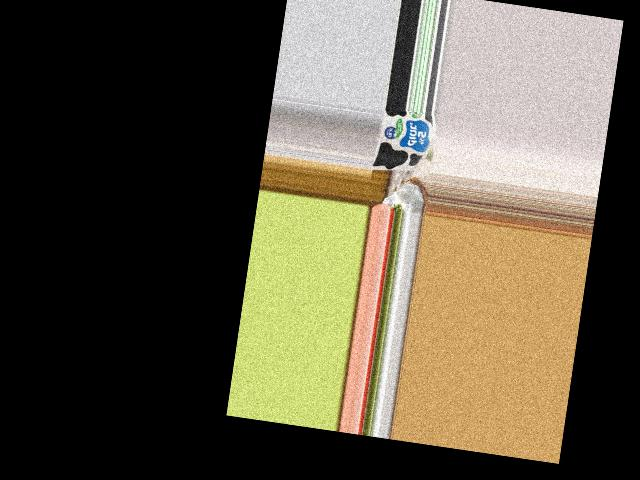cotage: (372, 107, 437, 174)
